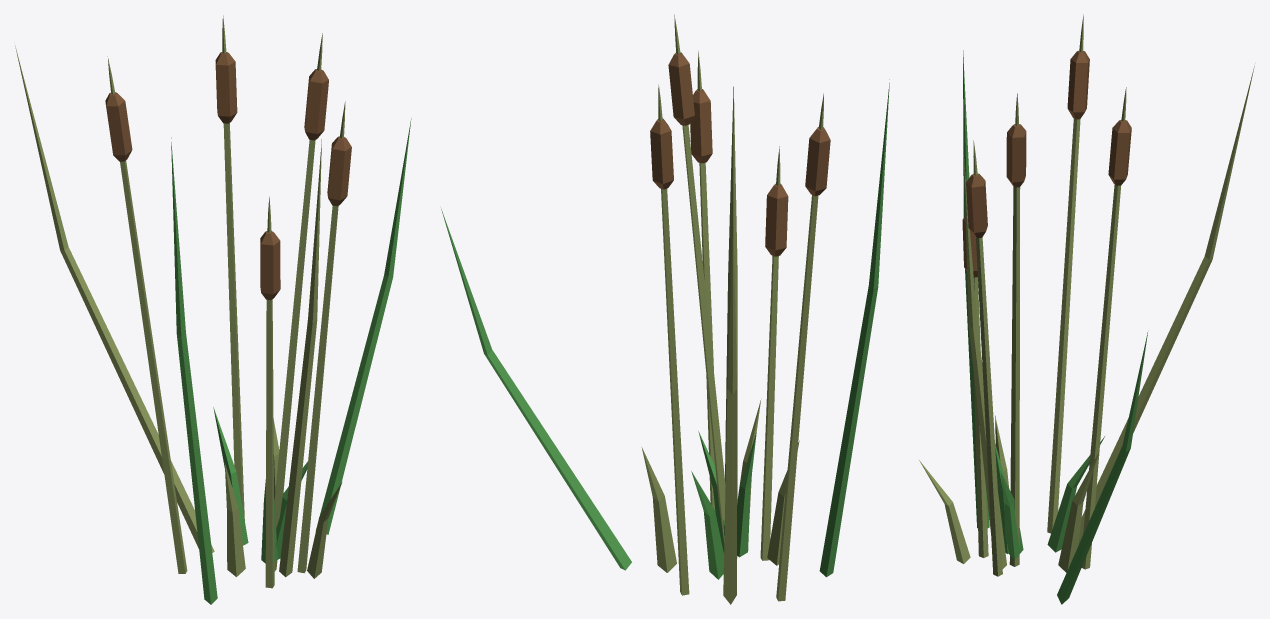
Rendered from reeds.glb.
3 renders of one model, left to right at view 1: azimuth 30°, elevation 25°; view 2: azimuth 150°, elevation 25°; view 3: azimuth 270°, elevation 25°, orthographic. The views are drawn at different scales.
Visible parts, largest first — view 1: reeds; view 2: reeds; view 3: reeds.
Part boxes in pixels (<box>): reeds: <box>15,15,411,604</box>; reeds: <box>441,14,889,604</box>; reeds: <box>919,14,1254,604</box>.
Size of the model in its own units: 1.23 by 1.81 by 1.1.
